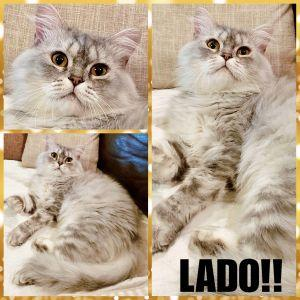persian: (172, 5, 282, 110)
